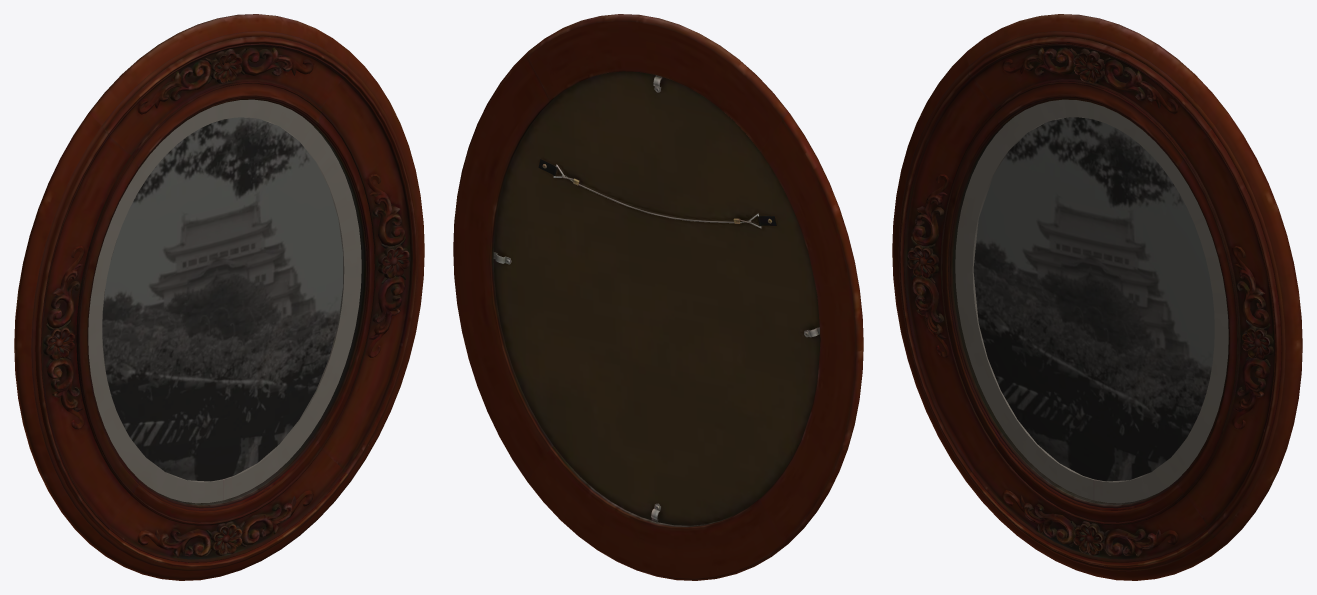
The model's file is hanging_picture_frame_03.glb.
3 views of the same model, side by side, from view 1: azimuth 30°, elevation 25°; view 2: azimuth 150°, elevation 25°; view 3: azimuth 330°, elevation 25° (orthographic).
Parts seen in each view (by area): view 1: hanging_picture_frame_03, hanging_picture_frame_03_glass; view 2: hanging_picture_frame_03; view 3: hanging_picture_frame_03, hanging_picture_frame_03_glass.
Part boxes in pixels (left/top/right/bottom): hanging_picture_frame_03: left=14, top=14, right=424, bottom=580; hanging_picture_frame_03_glass: left=88, top=100, right=363, bottom=504; hanging_picture_frame_03: left=453, top=14, right=863, bottom=580; hanging_picture_frame_03: left=892, top=14, right=1302, bottom=580; hanging_picture_frame_03_glass: left=953, top=100, right=1228, bottom=504.
Size of the model in its own units: 0.385 by 0.5024 by 0.0318.
3 materials, 2 textured.
